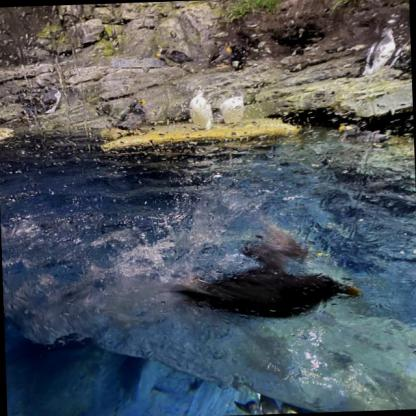puffin: (167, 218, 363, 324), (354, 13, 402, 78), (108, 96, 153, 137), (335, 120, 393, 150), (184, 86, 215, 134), (25, 84, 65, 116), (212, 41, 250, 74), (218, 93, 247, 128), (154, 46, 194, 70)
